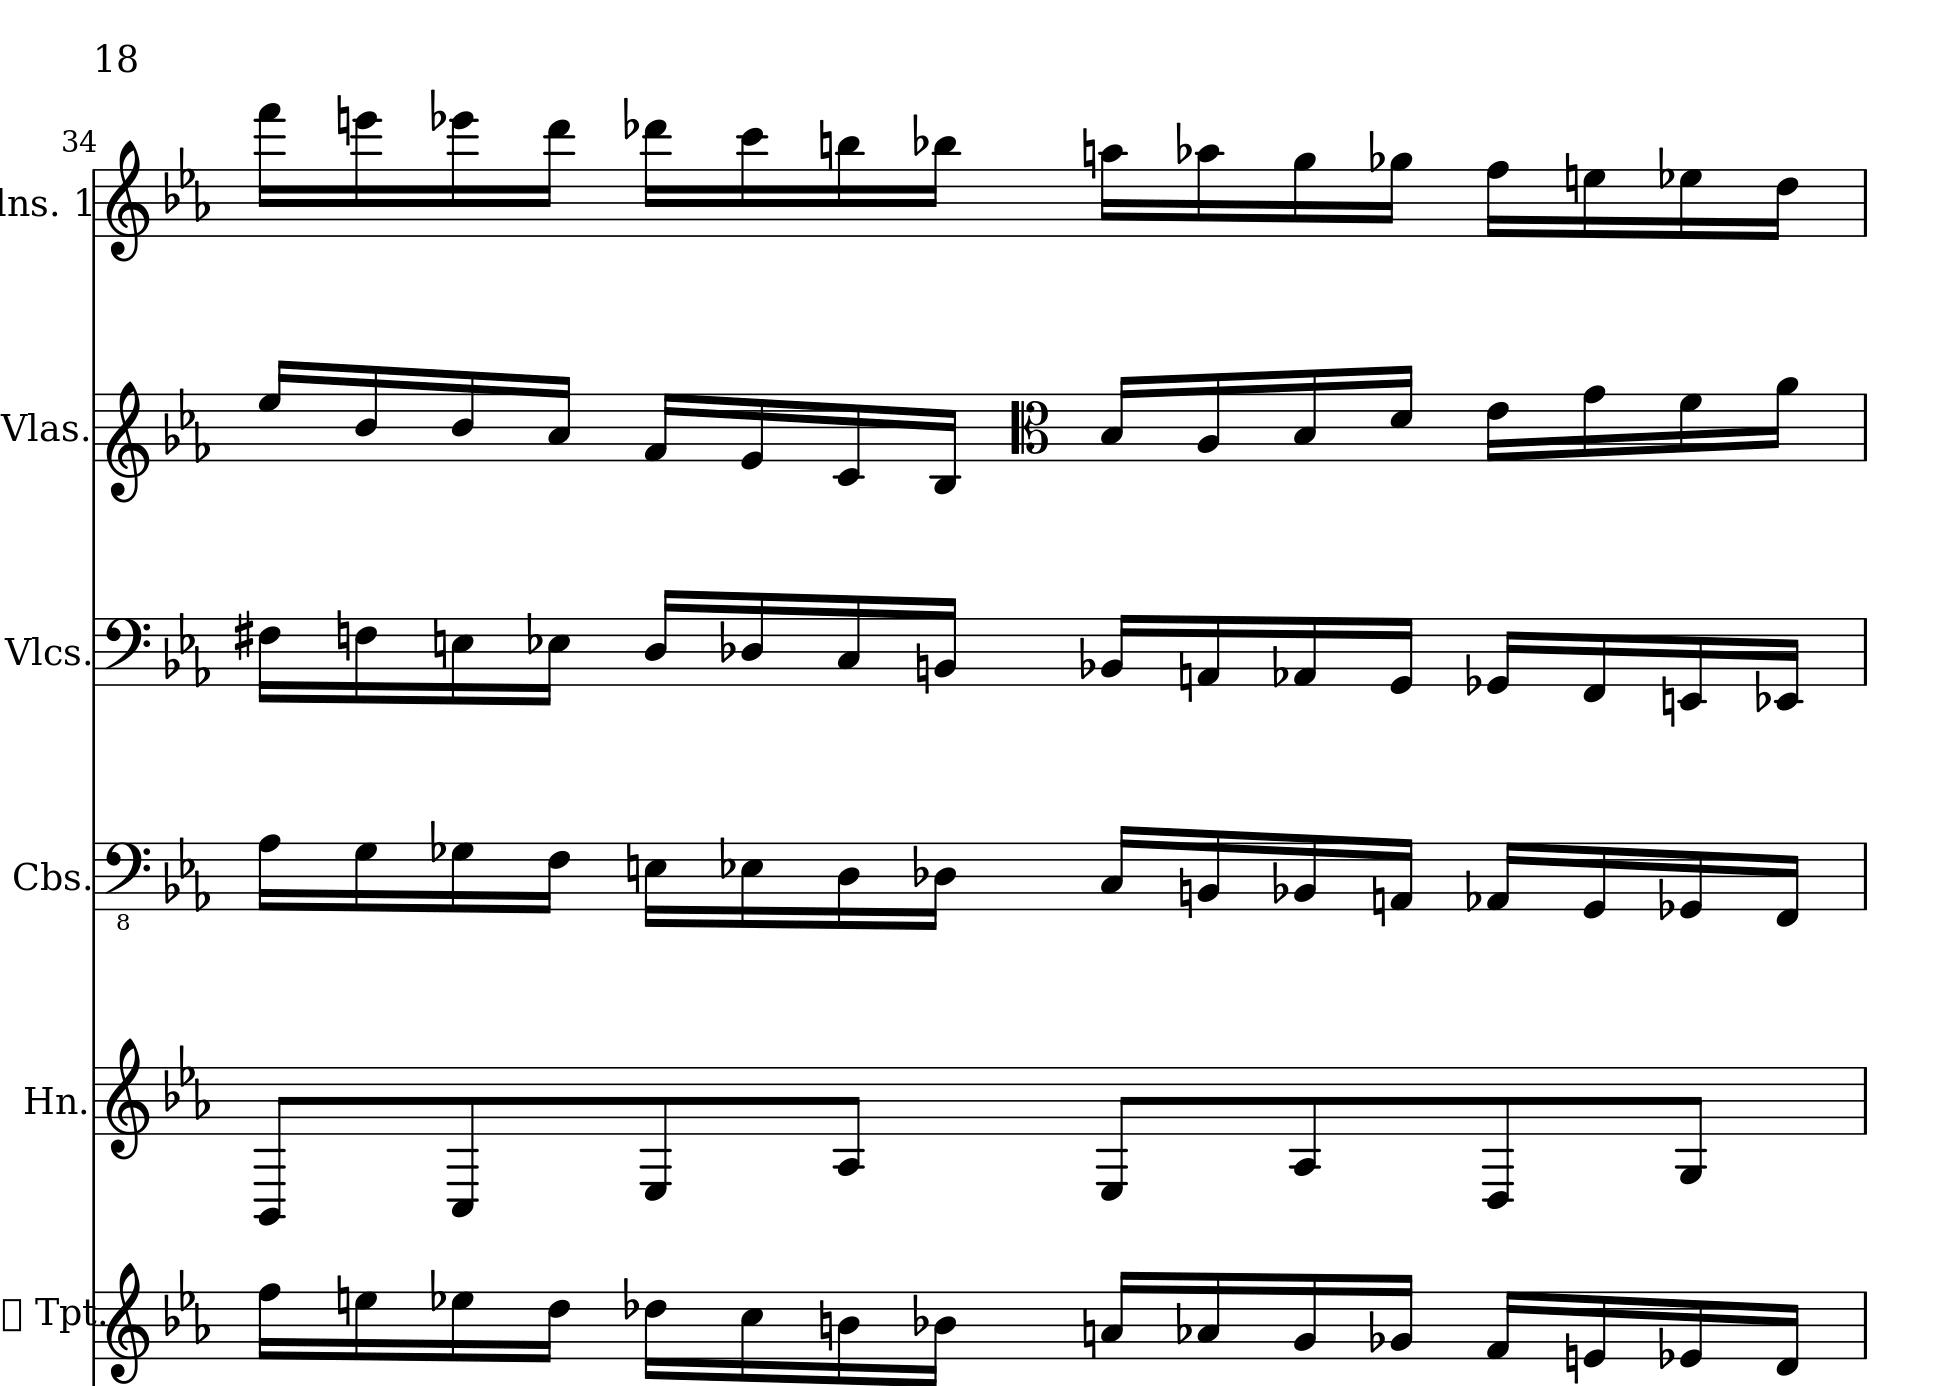1: (94, 40, 112, 73)
16_-1: (1581, 616, 1609, 703), (1774, 1288, 1801, 1378), (1774, 840, 1801, 928)
16_-2: (834, 391, 862, 487), (1677, 616, 1705, 712), (1774, 615, 1801, 711)
16_-3: (931, 391, 960, 496)
16_0: (1485, 615, 1519, 696), (1387, 615, 1416, 696), (1581, 840, 1609, 919), (1582, 1288, 1609, 1369), (1680, 1288, 1707, 1369), (1680, 840, 1707, 919), (739, 391, 766, 469)
16_1: (642, 390, 676, 463), (1485, 1290, 1519, 1360), (1486, 840, 1519, 912), (1390, 835, 1416, 912), (1197, 613, 1222, 688), (1293, 613, 1318, 687)
16_10: (1194, 142, 1221, 240), (1098, 144, 1125, 238)
16_11: (922, 133, 958, 238), (835, 133, 862, 240)
16_12: (736, 124, 766, 238)
16_13: (535, 117, 573, 238), (640, 117, 670, 238)
16_14: (352, 109, 382, 238), (448, 111, 478, 238)
16_15: (253, 103, 283, 237)
16_2: (1291, 1270, 1320, 1362), (1195, 370, 1222, 463), (1389, 1270, 1416, 1360), (1101, 610, 1132, 687), (933, 595, 958, 687), (1197, 826, 1224, 910), (1293, 831, 1320, 910)
16_3: (1099, 1267, 1134, 1360), (1099, 823, 1134, 912), (1099, 373, 1132, 462), (1291, 367, 1320, 463), (835, 592, 862, 687), (1195, 1270, 1222, 1360), (546, 373, 573, 462)
16_4: (643, 586, 676, 687), (925, 1288, 957, 1386), (352, 361, 381, 463), (925, 840, 955, 931), (448, 367, 477, 463), (739, 588, 766, 687), (835, 1288, 861, 1386), (835, 841, 862, 931)
16_5: (538, 616, 571, 706), (1389, 361, 1416, 462), (739, 1288, 765, 1384), (450, 615, 475, 706), (739, 840, 763, 930), (643, 841, 667, 928)
16_6: (1767, 166, 1800, 241), (537, 841, 570, 915), (538, 1288, 570, 1363), (256, 615, 282, 705), (643, 1288, 667, 1381), (354, 615, 378, 706), (1485, 390, 1510, 463)
16_7: (256, 357, 289, 463), (1677, 388, 1704, 463), (1581, 165, 1606, 241), (1677, 166, 1702, 243), (448, 838, 474, 915), (351, 838, 376, 913), (448, 1288, 474, 1363), (352, 1288, 378, 1362)
16_8: (255, 832, 280, 913), (255, 1281, 280, 1360), (1581, 382, 1605, 463), (1485, 159, 1509, 238)
16_9: (1765, 373, 1797, 463), (1380, 150, 1411, 238), (1291, 150, 1317, 240)
3: (61, 127, 78, 153)
4: (79, 127, 97, 154)
8: (115, 40, 139, 73)
8_-10: (252, 1063, 292, 1227)
8_-4: (832, 1062, 865, 1177), (1290, 1063, 1321, 1177)
8_-5: (1677, 1063, 1707, 1186)
8_-7: (1096, 1065, 1134, 1201), (640, 1060, 672, 1201)
8_-8: (1482, 1066, 1515, 1210)
8_-9: (445, 1063, 480, 1219)
Cclef: (1008, 391, 1050, 460)
E_F: (163, 609, 210, 685), (163, 1042, 210, 1119), (163, 1267, 210, 1344), (163, 145, 208, 220), (165, 385, 210, 460), (163, 834, 208, 909)
Fclef: (102, 615, 151, 687)
Flat: (715, 618, 736, 664), (715, 835, 736, 880), (1077, 634, 1096, 681), (1462, 867, 1482, 913), (1366, 1308, 1386, 1354), (1462, 652, 1482, 697), (1270, 859, 1290, 904), (1173, 1300, 1192, 1345), (1656, 1324, 1675, 1369), (621, 94, 639, 142), (1368, 127, 1386, 175), (621, 1273, 639, 1321), (427, 87, 445, 133), (910, 112, 928, 159), (1174, 120, 1192, 166), (427, 819, 445, 865), (910, 843, 928, 889), (910, 1291, 928, 1338), (523, 610, 541, 655), (1270, 643, 1288, 688), (1753, 667, 1771, 712), (1656, 877, 1674, 922), (427, 1267, 445, 1312), (1657, 145, 1674, 190)
Gclef: (103, 378, 151, 505), (103, 139, 151, 262), (103, 1258, 150, 1384), (103, 1035, 150, 1159)
Hn: (24, 1081, 76, 1120)
Lower_Fclef: (102, 838, 151, 930)
Natural: (913, 640, 931, 696), (1659, 673, 1677, 729), (1563, 151, 1581, 205), (1563, 1330, 1581, 1384), (334, 91, 351, 148), (334, 607, 351, 664), (1081, 126, 1098, 181), (1177, 865, 1194, 921), (430, 616, 447, 670), (1177, 649, 1194, 703), (1371, 874, 1387, 928), (334, 1273, 351, 1327), (1081, 1306, 1098, 1360), (817, 117, 832, 174), (817, 1297, 832, 1351), (625, 843, 640, 895)
Ob: (10, 853, 61, 894)
Sharp: (232, 609, 255, 661)
Single_barline: (1857, 616, 1875, 685), (1857, 169, 1875, 235), (1855, 1066, 1873, 1132), (1857, 394, 1875, 459), (1857, 841, 1873, 909), (1857, 1291, 1873, 1359), (87, 391, 102, 463), (87, 841, 102, 910), (88, 1290, 103, 1359), (87, 618, 100, 685), (88, 1065, 100, 1134), (88, 168, 100, 235)
Tpt: (34, 1291, 94, 1333)
Vlc: (1, 628, 64, 672)
Vln: (1, 403, 58, 448)
